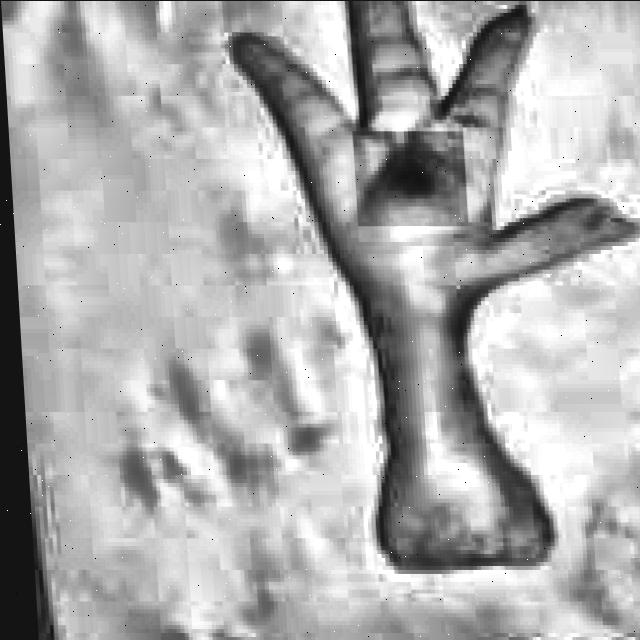Bumble foot: (349, 129, 459, 213)
